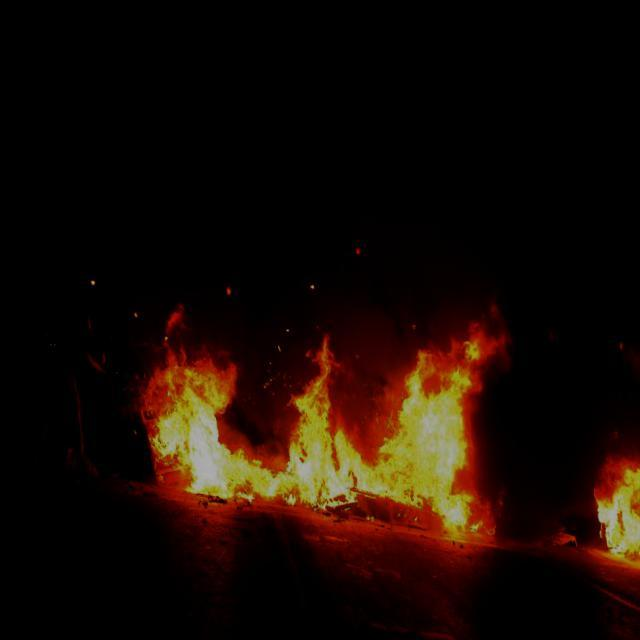Fire: (138, 270, 512, 526), (586, 439, 639, 552)
